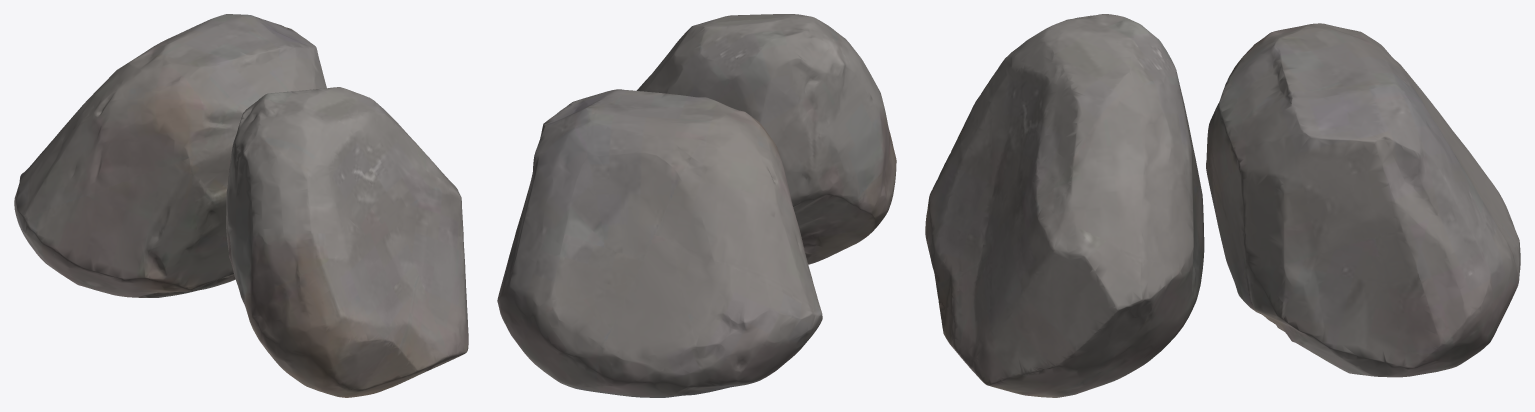
The model's file is stone-web.glb.
3 views of the same model, side by side, from view 1: azimuth 30°, elevation 25°; view 2: azimuth 150°, elevation 25°; view 3: azimuth 270°, elevation 25° (orthographic). The views are drawn at different scales.
Parts seen in each view (by area): view 1: tripo_node_912fa213-72b4-488b-b916-919b6ee4f46b; view 2: tripo_node_912fa213-72b4-488b-b916-919b6ee4f46b; view 3: tripo_node_912fa213-72b4-488b-b916-919b6ee4f46b.
Part boxes in pixels (x1,y1,x2,y2): tripo_node_912fa213-72b4-488b-b916-919b6ee4f46b: (14, 14, 468, 397); tripo_node_912fa213-72b4-488b-b916-919b6ee4f46b: (497, 14, 896, 397); tripo_node_912fa213-72b4-488b-b916-919b6ee4f46b: (925, 14, 1520, 397).
Size of the model in its own units: 0.721 by 0.6035 by 0.9999.
1 material, 1 textured.
